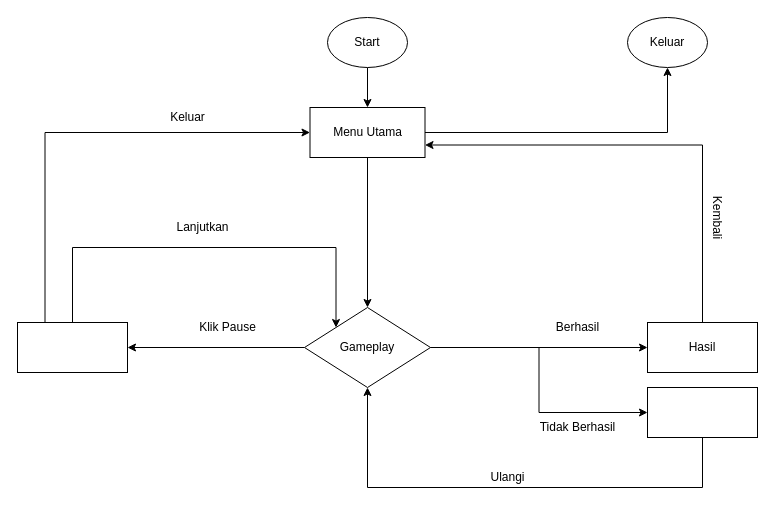
Image size: 775x513. Some labels were removed from this diagram. The shapes that lost their labels are listed below. From the top down, each one's centre as x and y in pixels, then its label:
At pixel 72 347: "Menu Pause".
At pixel 702 412: "Ulang Level".
